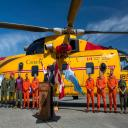helicopter: (1, 9, 128, 108)
